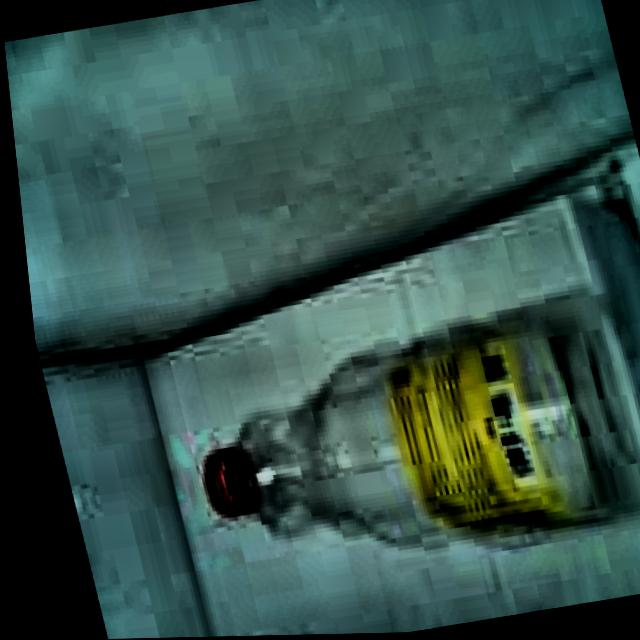Bottles: (133, 270, 640, 586)
